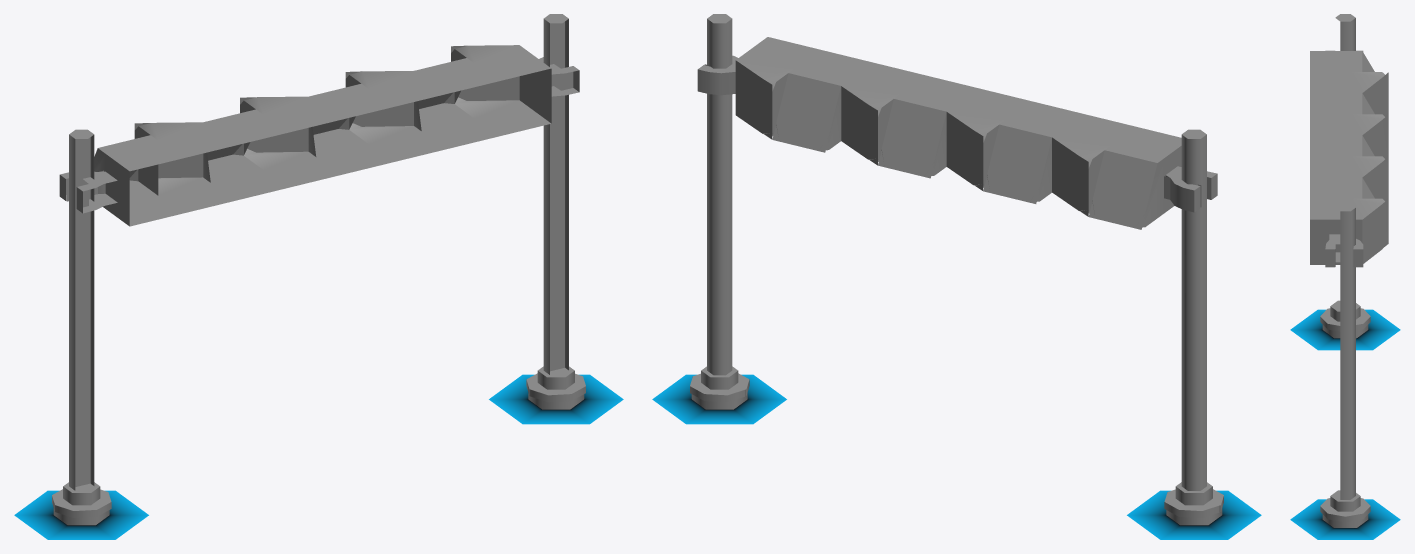
File: Custom_Barrier_Low.fbx
The picture shows the model from 3 angles, left to right: view 1: azimuth 30°, elevation 25°; view 2: azimuth 150°, elevation 25°; view 3: azimuth 270°, elevation 25°; orthographic projection. The views are drawn at different scales.
Parts seen in each view (by area): view 1: Custom_Barrier_Low, Custom_Barrier_Low_LOD, Custom_Barrier_Low_Shadow; view 2: Custom_Barrier_Low, Custom_Barrier_Low_LOD, Custom_Barrier_Low_Shadow; view 3: Custom_Barrier_Low, Custom_Barrier_Low_Shadow, Custom_Barrier_Low_LOD.
Boxes of the visible parts, x1=… form: Custom_Barrier_Low: x1=52, y1=14, x2=585, y2=525; Custom_Barrier_Low_LOD: x1=54, y1=22, x2=564, y2=510; Custom_Barrier_Low_Shadow: x1=14, y1=374, x2=623, y2=539; Custom_Barrier_Low: x1=690, y1=14, x2=1223, y2=525; Custom_Barrier_Low_LOD: x1=692, y1=64, x2=1220, y2=512; Custom_Barrier_Low_Shadow: x1=652, y1=374, x2=1261, y2=539; Custom_Barrier_Low: x1=1310, y1=14, x2=1388, y2=527; Custom_Barrier_Low_Shadow: x1=1290, y1=309, x2=1400, y2=539; Custom_Barrier_Low_LOD: x1=1362, y1=51, x2=1388, y2=247.
Size of the model in its own units: 2.7 by 1.73 by 0.5498.
